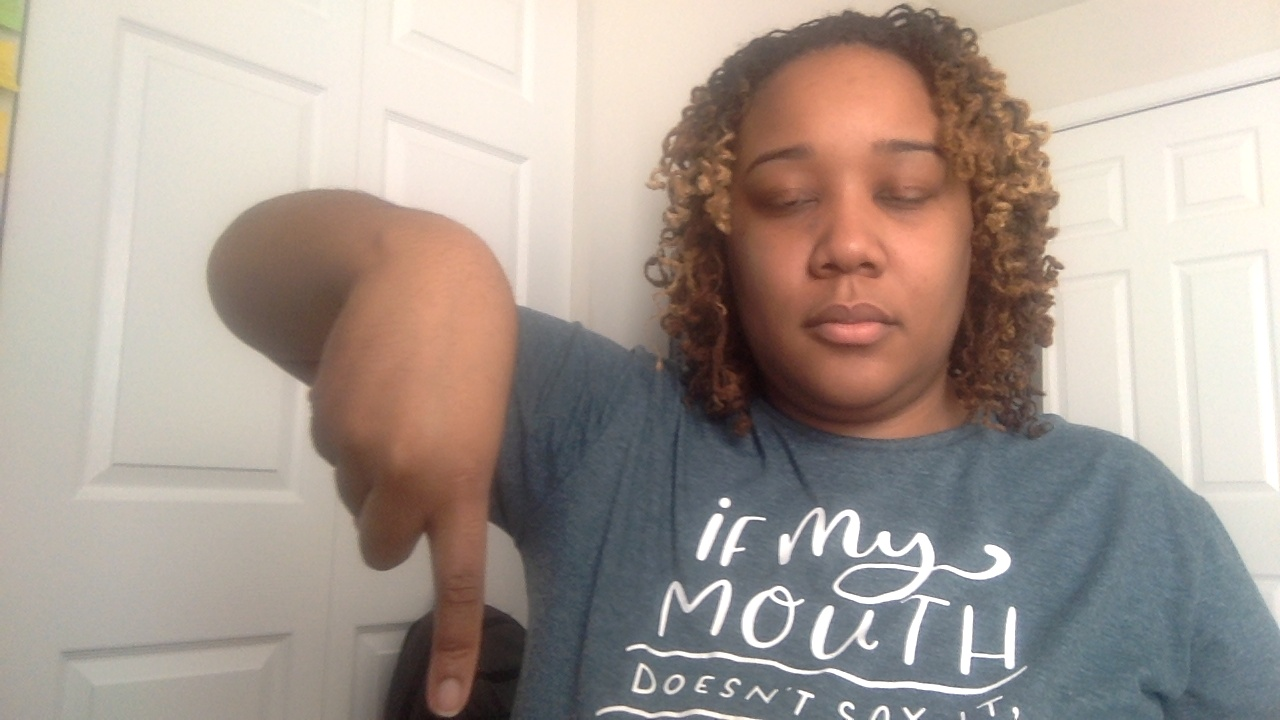down: (300, 187, 525, 720)
